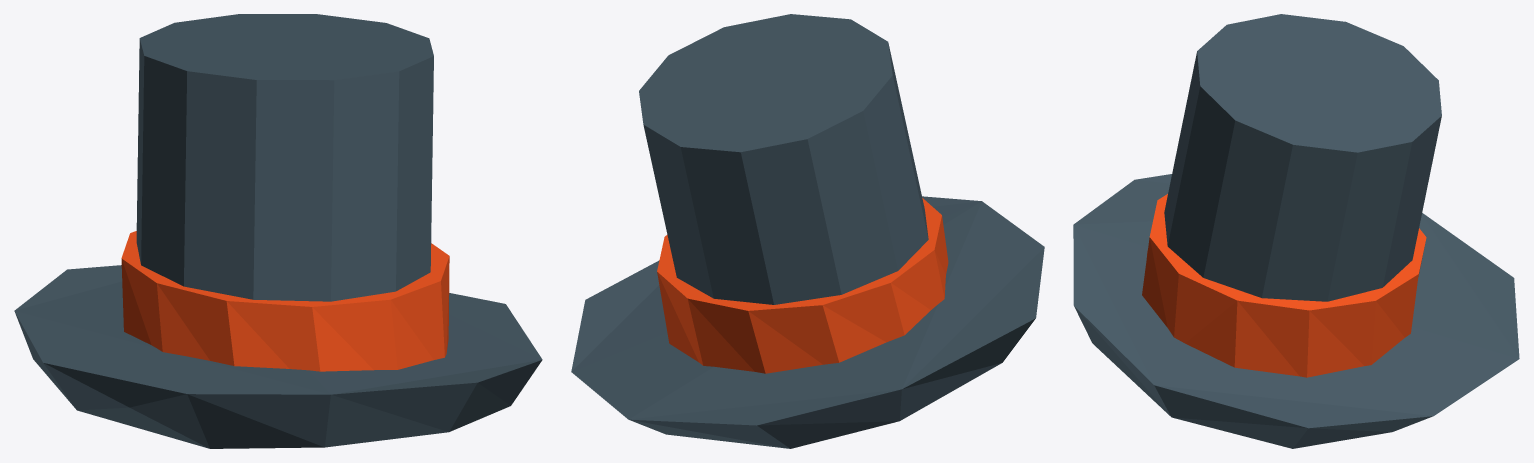
File: hat.glb
The picture shows the model from 3 angles, left to right: view 1: azimuth 30°, elevation 25°; view 2: azimuth 150°, elevation 25°; view 3: azimuth 270°, elevation 25°; orthographic projection. The views are drawn at different scales.
Parts seen in each view (by area): view 1: group126700939, group1649041834, group1055717707; view 2: group126700939, group1649041834, group1055717707; view 3: group126700939, group1649041834, group1055717707.
Boxes of the visible parts, bbox=[...] form: group126700939: bbox=[136, 14, 433, 301]; group1649041834: bbox=[14, 265, 542, 448]; group1055717707: bbox=[121, 231, 449, 371]; group126700939: bbox=[639, 14, 928, 304]; group1649041834: bbox=[571, 196, 1044, 448]; group1055717707: bbox=[657, 198, 948, 373]; group126700939: bbox=[1164, 14, 1441, 301]; group1649041834: bbox=[1073, 174, 1519, 448]; group1055717707: bbox=[1142, 194, 1426, 377].
Bounding box in the file's own units: 0.3815 × 0.2822 × 0.3565.
